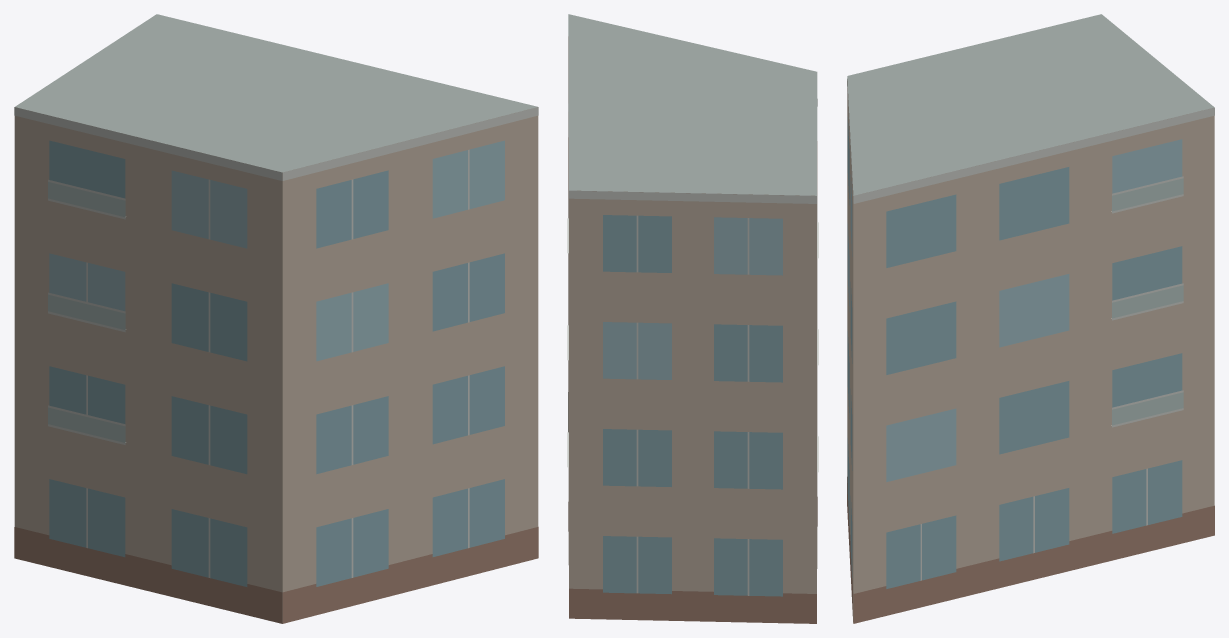
Rendered from survey-upis-32902251.glb.
3 views of the same model, side by side, from view 1: azimuth 30°, elevation 25°; view 2: azimuth 150°, elevation 25°; view 3: azimuth 270°, elevation 25° (orthographic). The views are drawn at different scales.
Parts seen in each view (by area): view 1: survey-upis-32902251.tmp; view 2: survey-upis-32902251.tmp; view 3: survey-upis-32902251.tmp.
Boxes of the visible parts, x1,y1,x2,y2 form: survey-upis-32902251.tmp: [14, 14, 538, 623]; survey-upis-32902251.tmp: [567, 14, 818, 623]; survey-upis-32902251.tmp: [847, 14, 1214, 623].
Size of the model in its own units: 11.63 by 12.75 by 9.93.
